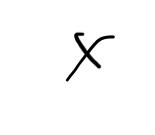mult: (65, 33, 115, 81)
